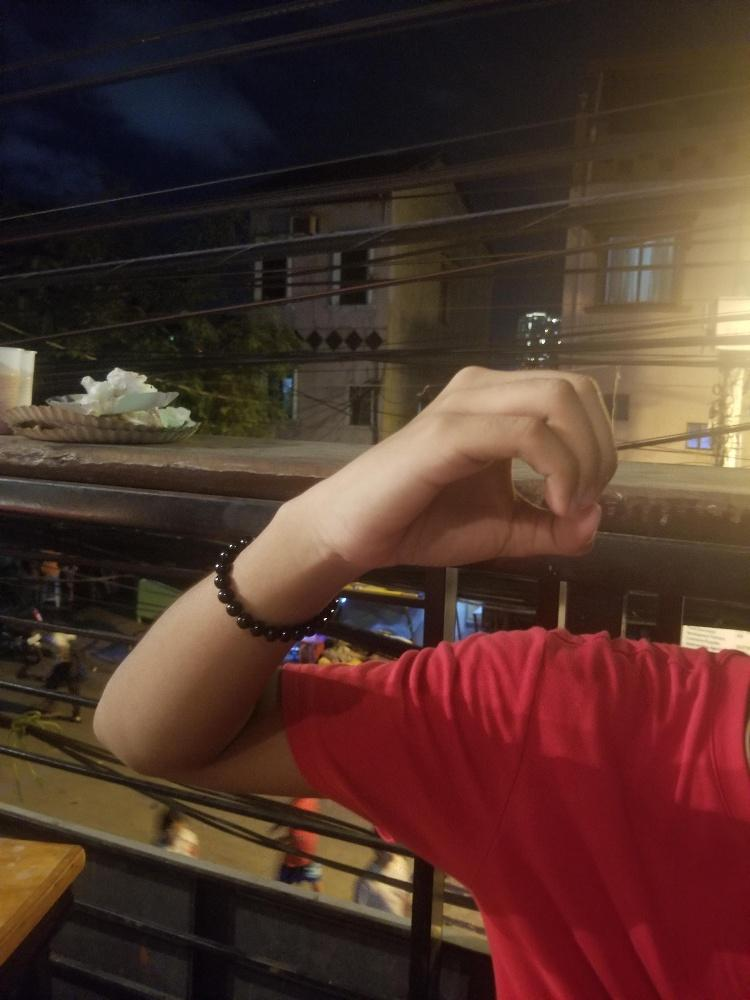o: (363, 363, 618, 567)
